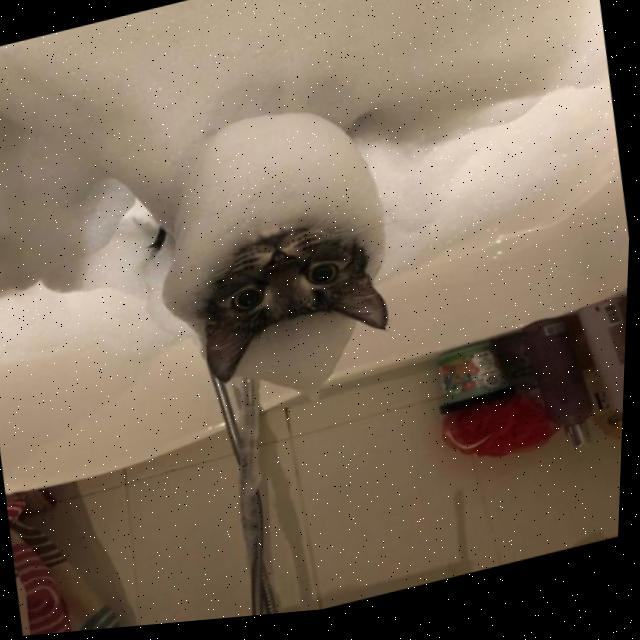Cats: (170, 205, 406, 408)
